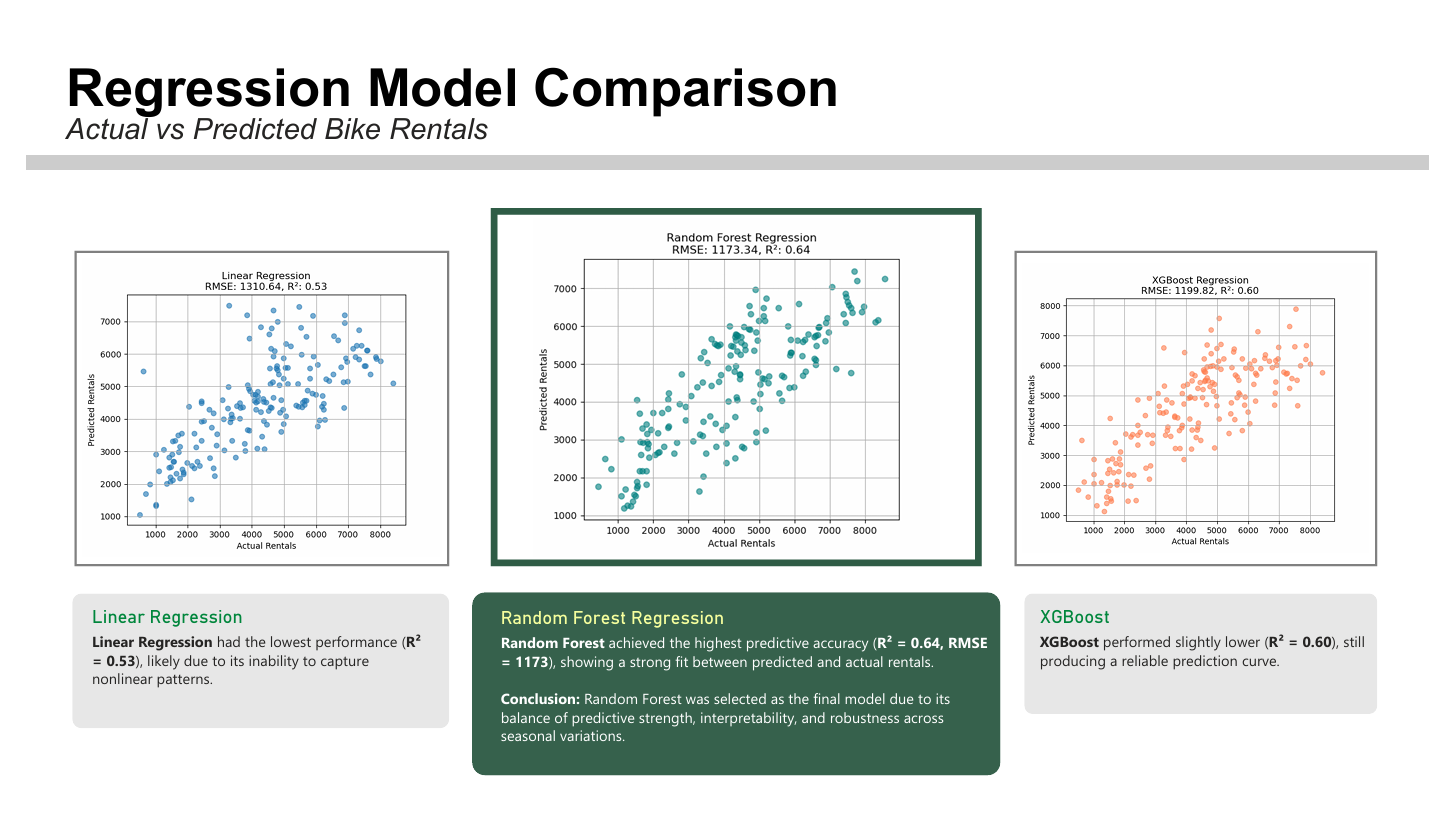

What the dashboard file says about the page in this screenshot:
{"tool":"powerbi","page":{"name":"Regression Model Comparison","canvas":[1280,720],"ordinal":3},"visuals":[{"type":"pythonVisual","fields":{"Values":["bike_dataset_clean.temp","bike_dataset_clean.hum","bike_dataset_clean.windspeed","bike_dataset_clean.weather_good","bike_dataset_clean.is_weekend","bike_dataset_clean.holiday","bike_dataset_clean.mnth","bike_dataset_clean.season","bike_dataset_clean.cnt"]},"box":[44,205.3,341.7,287.6],"z":0},{"type":"pythonVisual","fields":{"Values":["bike_dataset_clean.cnt","bike_dataset_clean.temp","bike_dataset_clean.hum","bike_dataset_clean.windspeed","bike_dataset_clean.weather_good","bike_dataset_clean.is_weekend","bike_dataset_clean.holiday","bike_dataset_clean.mnth","bike_dataset_clean.season"]},"box":[424,165.8,447.7,327],"z":1000},{"type":"pythonVisual","fields":{"Values":["bike_dataset_clean.temp","bike_dataset_clean.hum","bike_dataset_clean.is_weekend","bike_dataset_clean.season","bike_dataset_clean.windspeed","bike_dataset_clean.weather_good","bike_dataset_clean.mnth","bike_dataset_clean.holiday","bike_dataset_clean.cnt"]},"box":[902.2,205.3,330.4,287.6],"z":2000},{"type":"shape","box":[0,117.5,1280.4,13.4],"z":3000},{"type":"textbox","box":[31,24,933,69],"z":4000},{"type":"textbox","box":[31.1,74.4,608.9,42.2],"z":5000},{"type":"shape","box":[406.8,517.3,482.2,166.7],"z":6000},{"type":"textbox","title":"Random Forest Regression","box":[428,530,457.8,155.6],"z":7000},{"type":"shape","box":[911.2,517.6,321.4,110.5],"z":8000},{"type":"textbox","title":"XGBoost","box":[920.2,528.9,312.4,111.6],"z":9000},{"type":"shape","box":[41.7,517.6,344,122.9],"z":10000},{"type":"textbox","title":"Linear Regression","box":[55.3,528.9,316.9,99.2],"z":11000}]}

Visuals, with their boxes in screenshot pixels (x1, y1, x2, y2), scaled from the page's 1280x720 canvas onto the 1453x840 screenshot:
pythonVisual - bike_dataset_clean.temp x bike_dataset_clean.hum: 50, 240, 438, 575
pythonVisual - bike_dataset_clean.cnt x bike_dataset_clean.temp: 481, 193, 990, 575
pythonVisual - bike_dataset_clean.temp x bike_dataset_clean.hum: 1024, 240, 1399, 575
shape: 0, 137, 1452, 153
textbox: 35, 28, 1094, 108
textbox: 35, 87, 726, 136
shape: 462, 604, 1009, 798
"Random Forest Regression" textbox: 486, 618, 1006, 800
shape: 1034, 604, 1399, 733
"XGBoost" textbox: 1045, 617, 1399, 747
shape: 47, 604, 438, 747
"Linear Regression" textbox: 63, 617, 423, 733
